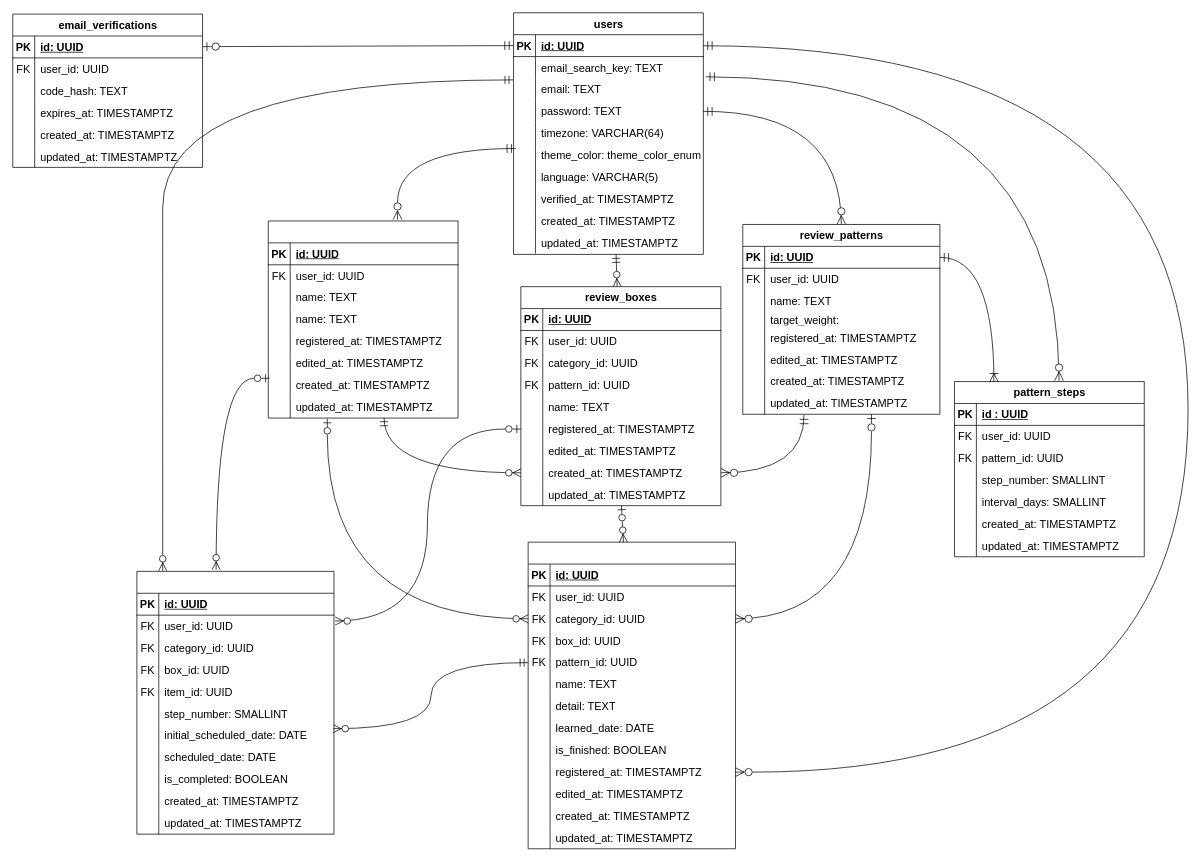
Image size: 1201x862. Some labels were removed from this diagram. Each missing label, with the box of its shape:
categories: (268, 220, 458, 418)
review_dates: (136, 571, 334, 834)
review_items: (527, 541, 735, 849)
